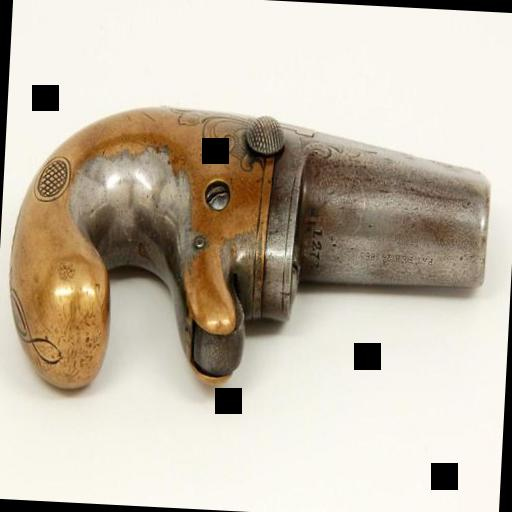Handgun: (0, 88, 497, 427)
